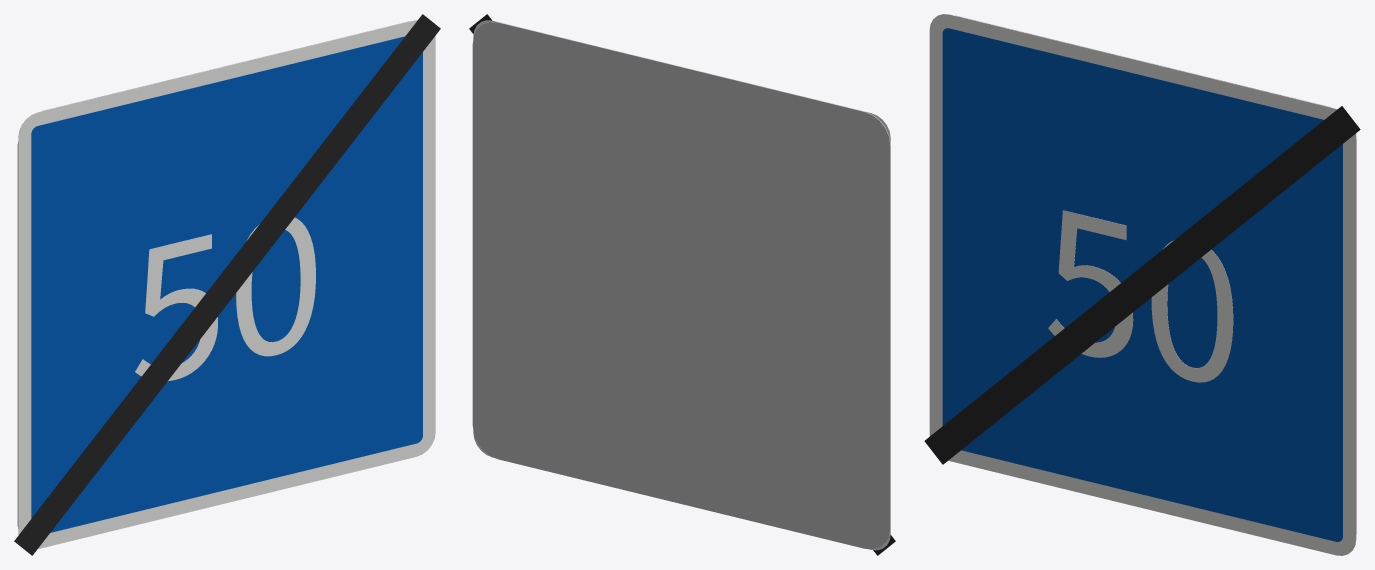
3 renders of one model, left to right at view 1: azimuth 30°, elevation 25°; view 2: azimuth 150°, elevation 25°; view 3: azimuth 330°, elevation 25°, orthographic. The views are drawn at different scales.
Parts seen in each view (by area): view 1: C4b_r01, C4b_r00, C4b_p03, C4b_txt02, C4b_dos; view 2: C4b_dos, C4b_r00; view 3: C4b_r01, C4b_r00, C4b_p03, C4b_txt02, C4b_dos.
Boxes of the visible parts, x1=… form: C4b_r01: x1=31, y1=36, x2=422, y2=532; C4b_r00: x1=18, y1=20, x2=435, y2=548; C4b_p03: x1=14, y1=14, x2=440, y2=555; C4b_txt02: x1=135, y1=217, x2=315, y2=380; C4b_dos: x1=17, y1=21, x2=411, y2=528; C4b_dos: x1=472, y1=21, x2=890, y2=549; C4b_r00: x1=473, y1=20, x2=890, y2=550; C4b_r01: x1=942, y1=28, x2=1342, y2=541; C4b_r00: x1=929, y1=14, x2=1356, y2=555; C4b_p03: x1=924, y1=106, x2=1360, y2=464; C4b_txt02: x1=1048, y1=210, x2=1233, y2=382; C4b_dos: x1=955, y1=15, x2=1356, y2=533.
Bounding box in the file's own units: 0.6647 × 0.6647 × 0.0029.
